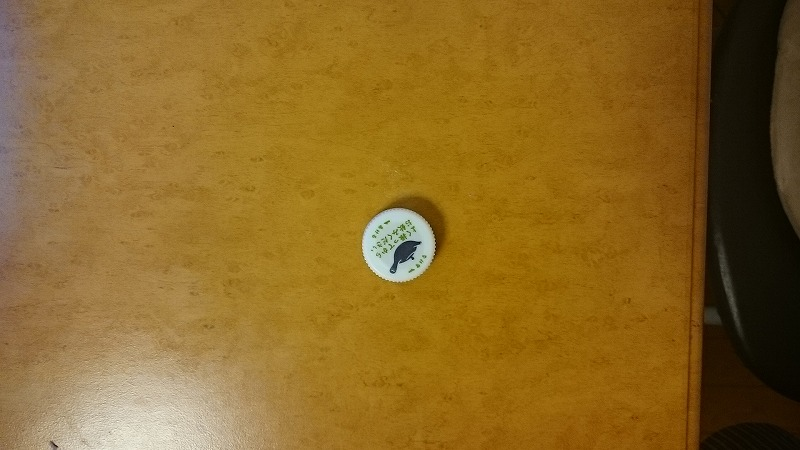A: (356, 206, 442, 287)
